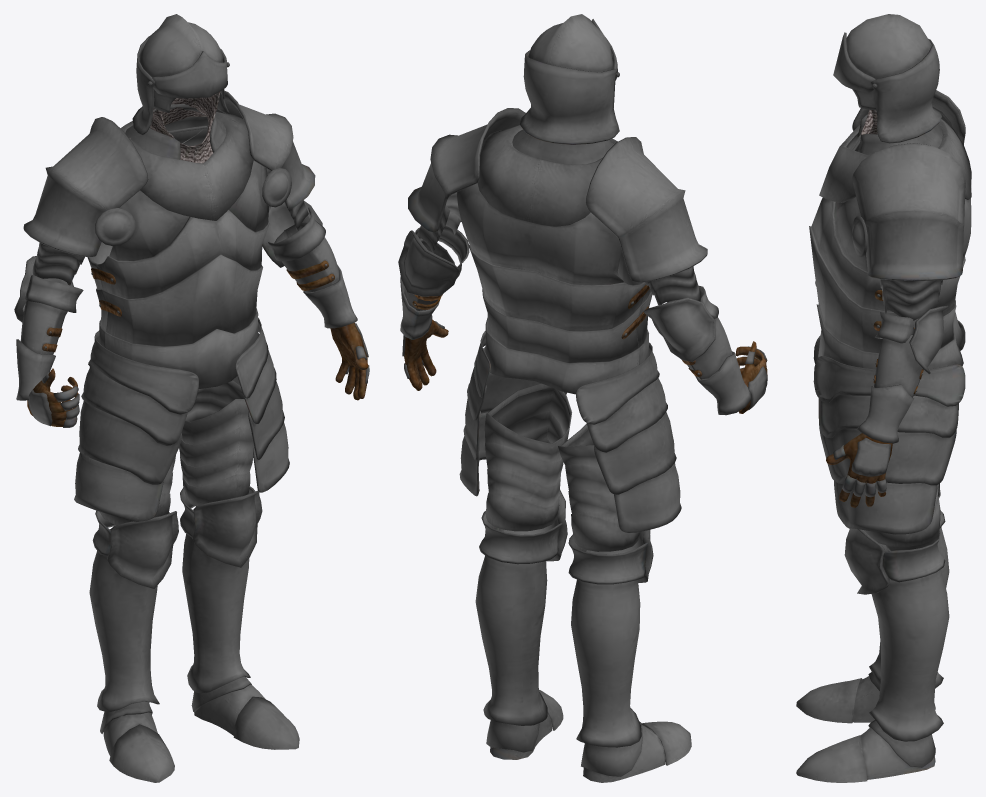
File: armour-sallet-3.glb
3 views of the same model, side by side, from view 1: azimuth 30°, elevation 25°; view 2: azimuth 150°, elevation 25°; view 3: azimuth 270°, elevation 25° (orthographic). The views are drawn at different scales.
Parts seen in each view (by area): view 1: armour-sallet-3; view 2: armour-sallet-3; view 3: armour-sallet-3.
Part boxes in pixels (x1,y1,x2,y2): armour-sallet-3: (14, 14, 369, 782); armour-sallet-3: (398, 14, 767, 782); armour-sallet-3: (796, 14, 971, 782).
Bounding box in the file's own units: 0.8406 × 1.7 × 0.3715.
1 material, 1 textured.
